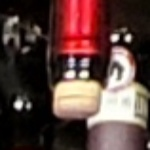bottle: (27, 31, 131, 139)
